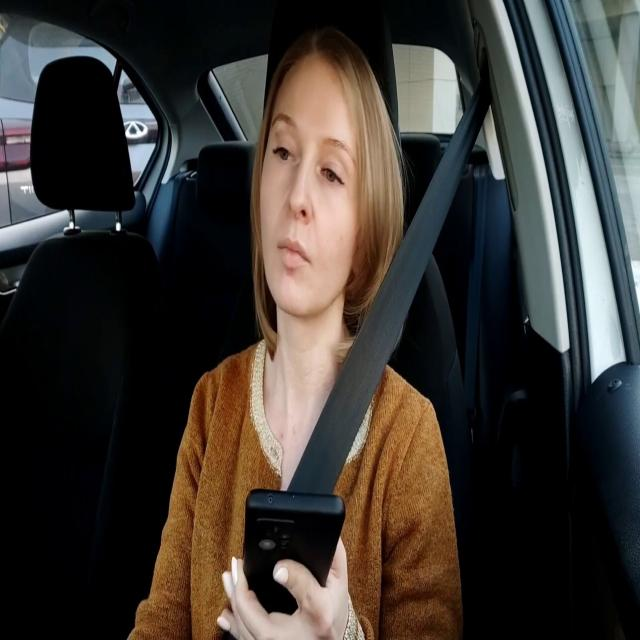phone: (241, 484, 347, 617)
